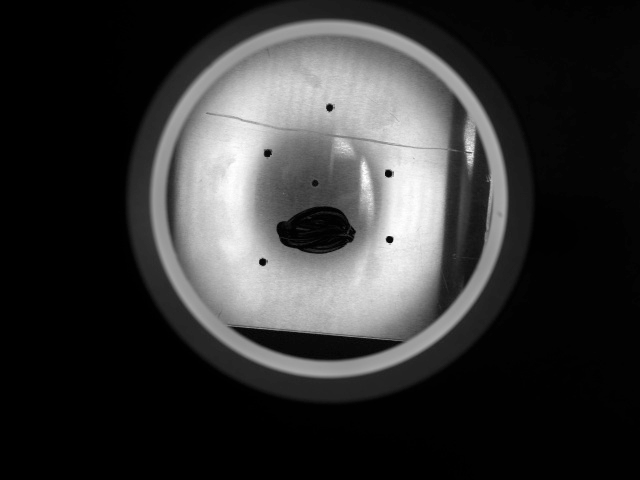ca_shang: (200, 93, 475, 174)
zang_wu: (269, 198, 363, 267)
zhen_kong: (376, 166, 404, 184), (379, 231, 403, 252), (258, 142, 279, 165), (252, 254, 275, 273), (321, 98, 340, 119), (306, 175, 326, 194)
